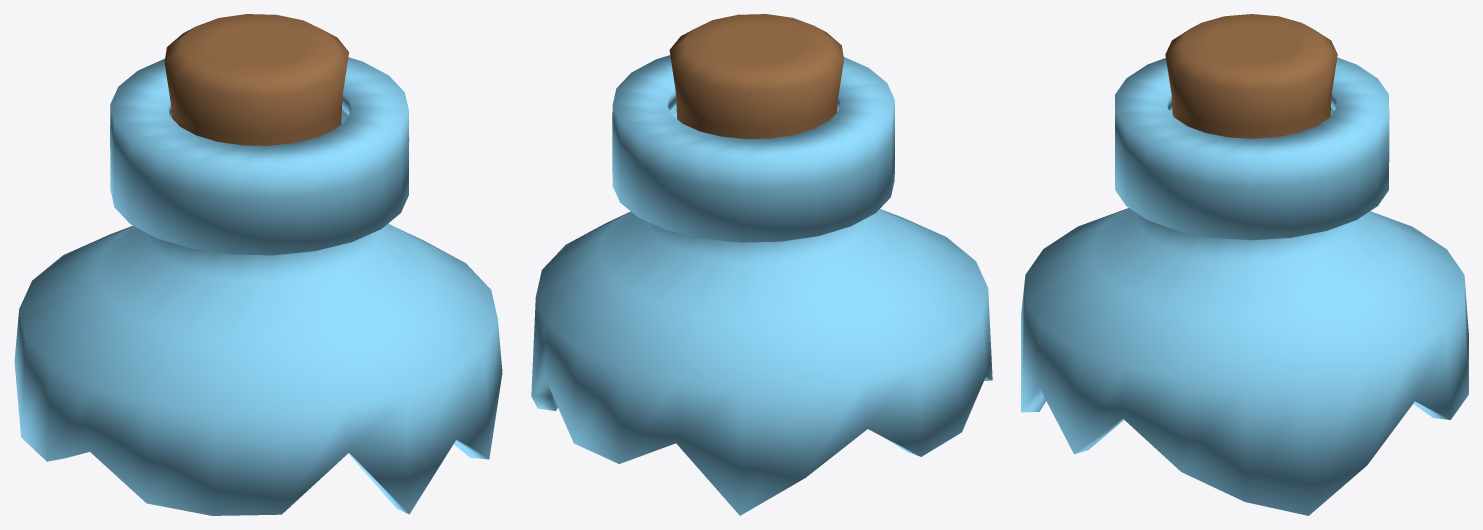
File: BrokenFlaskPotUpper.fbx
3 views of the same model, side by side, from view 1: azimuth 30°, elevation 25°; view 2: azimuth 150°, elevation 25°; view 3: azimuth 270°, elevation 25° (orthographic). The views are drawn at different scales.
Visible parts, largest first — view 1: BrokenFlaskPotUpper; view 2: BrokenFlaskPotUpper; view 3: BrokenFlaskPotUpper.
Boxes of the visible parts, x1=… form: BrokenFlaskPotUpper: x1=14, y1=14, x2=502, y2=515; BrokenFlaskPotUpper: x1=531, y1=14, x2=992, y2=515; BrokenFlaskPotUpper: x1=1021, y1=14, x2=1468, y2=515.
Bounding box in the file's own units: 24.39 × 22.71 × 24.15.
